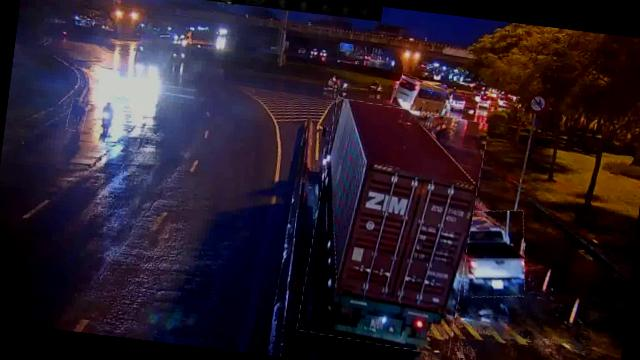Bike: (92, 99, 115, 143), (66, 98, 88, 132)
Bus: (391, 74, 451, 120)
Car: (456, 206, 532, 302)
Truck: (298, 98, 486, 354)
